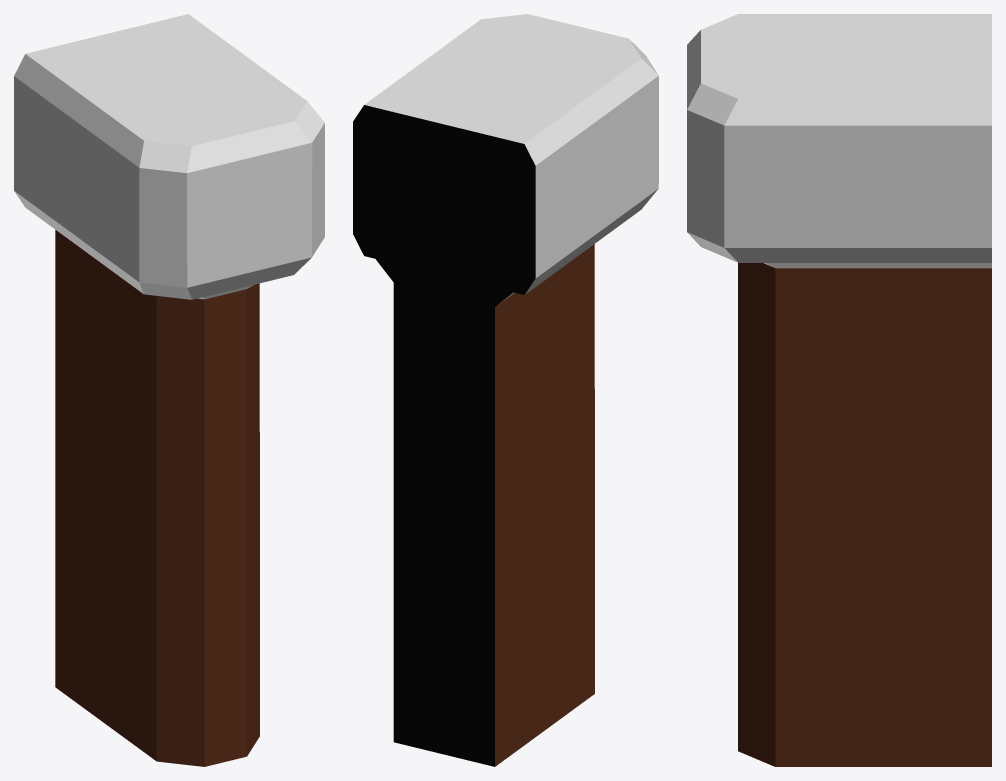
File: Wall End.fbx
3 views of the same model, side by side, from view 1: azimuth 30°, elevation 25°; view 2: azimuth 150°, elevation 25°; view 3: azimuth 270°, elevation 25° (orthographic). The views are drawn at different scales.
Visible parts, largest first — view 1: Wall End; view 2: Wall End; view 3: Wall End.
Boxes of the visible parts, x1,y1,x2,y2 form: Wall End: [14, 14, 324, 766]; Wall End: [353, 14, 658, 766]; Wall End: [687, 14, 991, 766].
Size of the model in its own units: 60 by 198 by 80.
